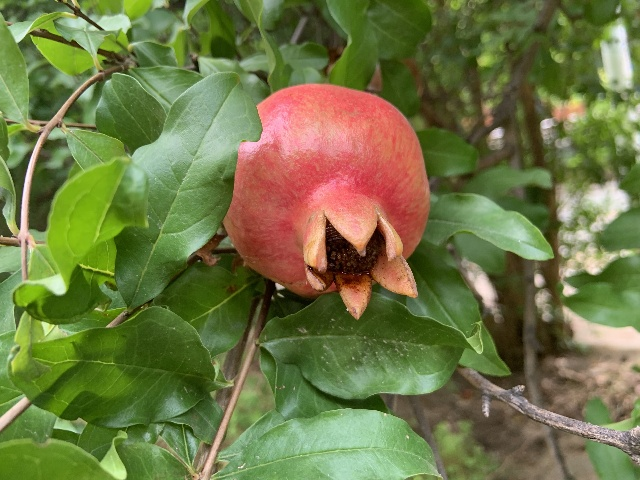ripe: (225, 83, 431, 319)
